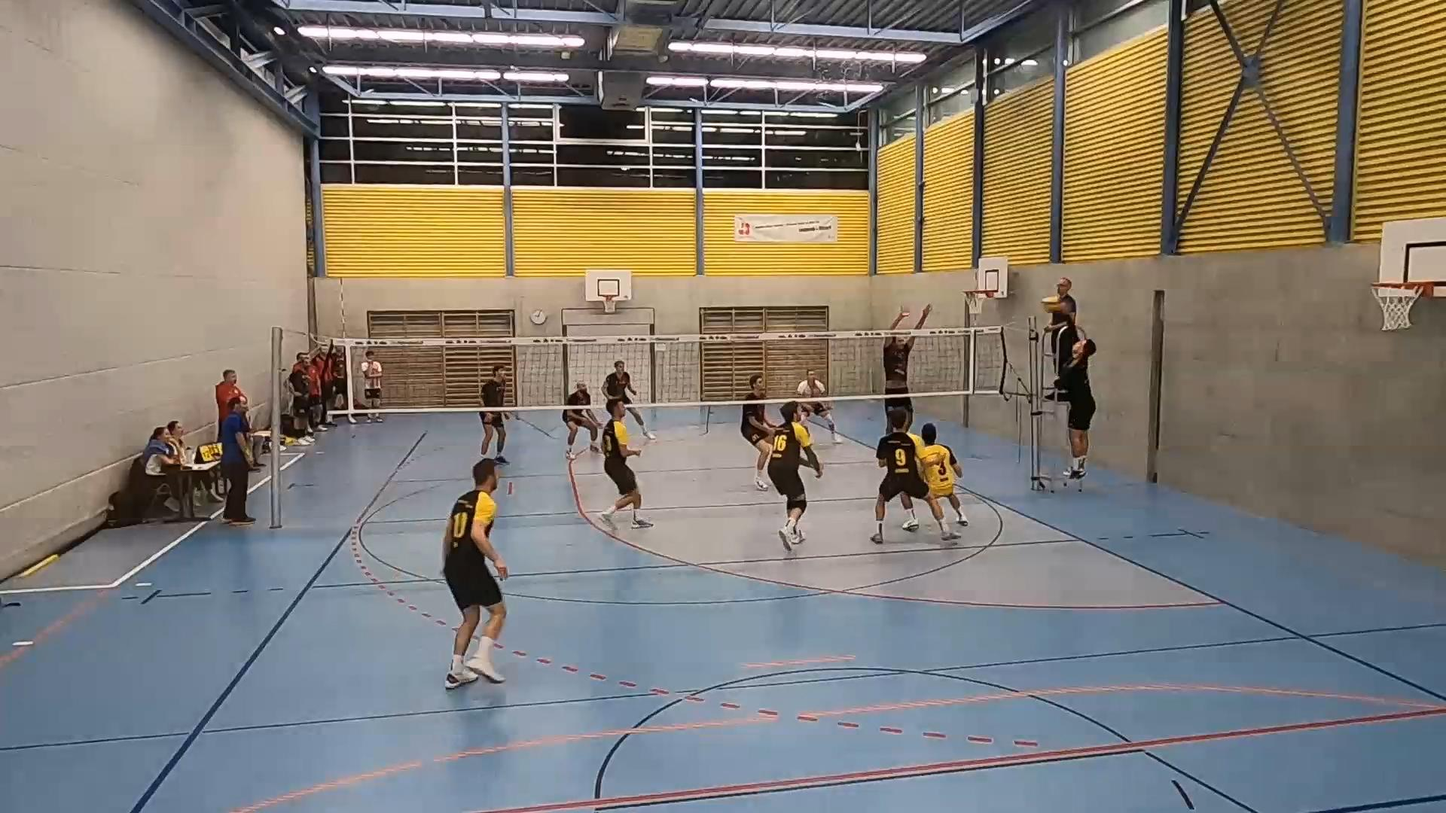Attack: (1043, 318, 1099, 495)
Block: (874, 302, 935, 441)
Player: (443, 459, 508, 688), (871, 407, 959, 544), (767, 402, 822, 550), (599, 398, 651, 528), (920, 423, 968, 526), (605, 361, 655, 440), (797, 370, 839, 443), (740, 403, 774, 490), (479, 364, 508, 464), (563, 408, 598, 459)
ball: (1040, 298, 1065, 312)
